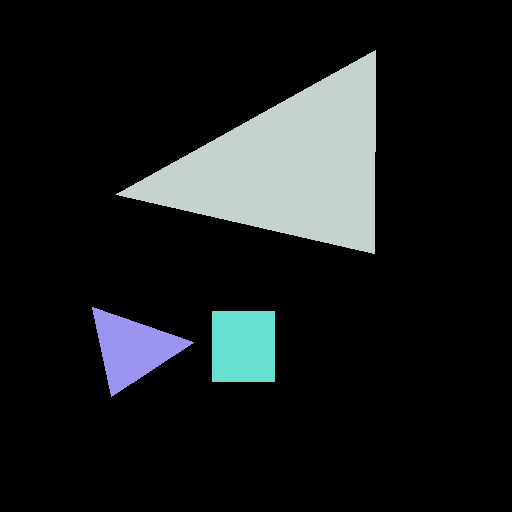rectangle: (212, 311, 274, 381)
triangle: (116, 50, 375, 253), (92, 307, 193, 396)
